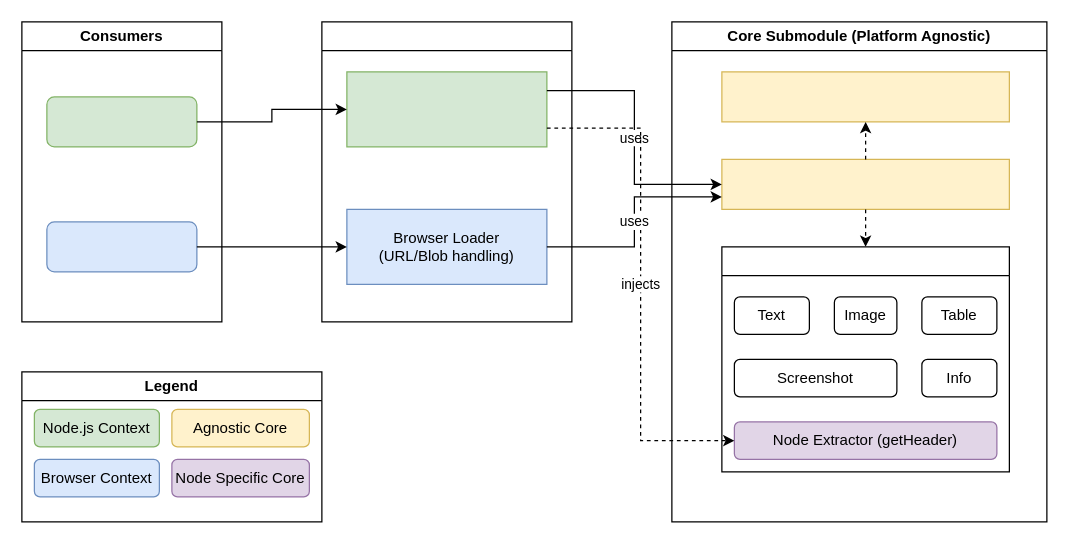
The diagram is 1069 pixels wide and 544 high, and some of its shapes have lost their labels. Each missing label, with the box of its shape:
Browser App: (46, 221, 197, 272)
Extractors (IExtractor Plugins): (721, 246, 1009, 472)
Node Submodule (fs wrappers, http): (346, 71, 547, 147)
Node.js App: (46, 96, 197, 147)
Parser Session (IPDFSession): (721, 158, 1009, 209)
Platform Modules: (321, 21, 572, 322)
Source Loader (IPDFSource): (721, 71, 1009, 122)
